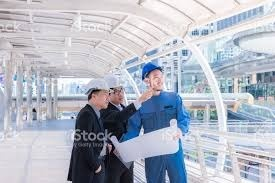helmet: (139, 62, 164, 79), (83, 79, 110, 93), (103, 75, 124, 90)
person with partial safety: (130, 61, 193, 182), (101, 74, 141, 182), (75, 79, 110, 180)
